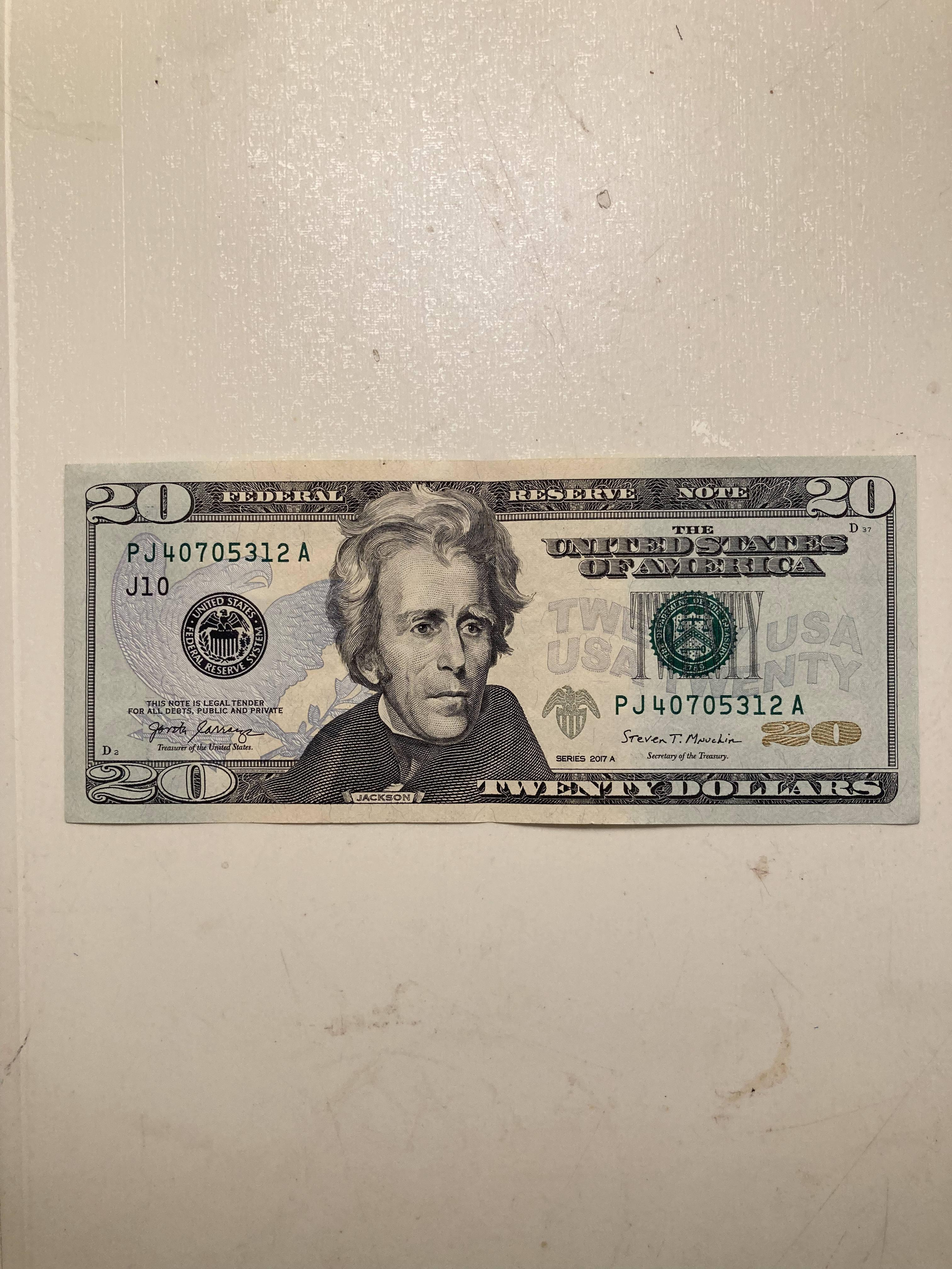twenty-front: (62, 454, 923, 828)
